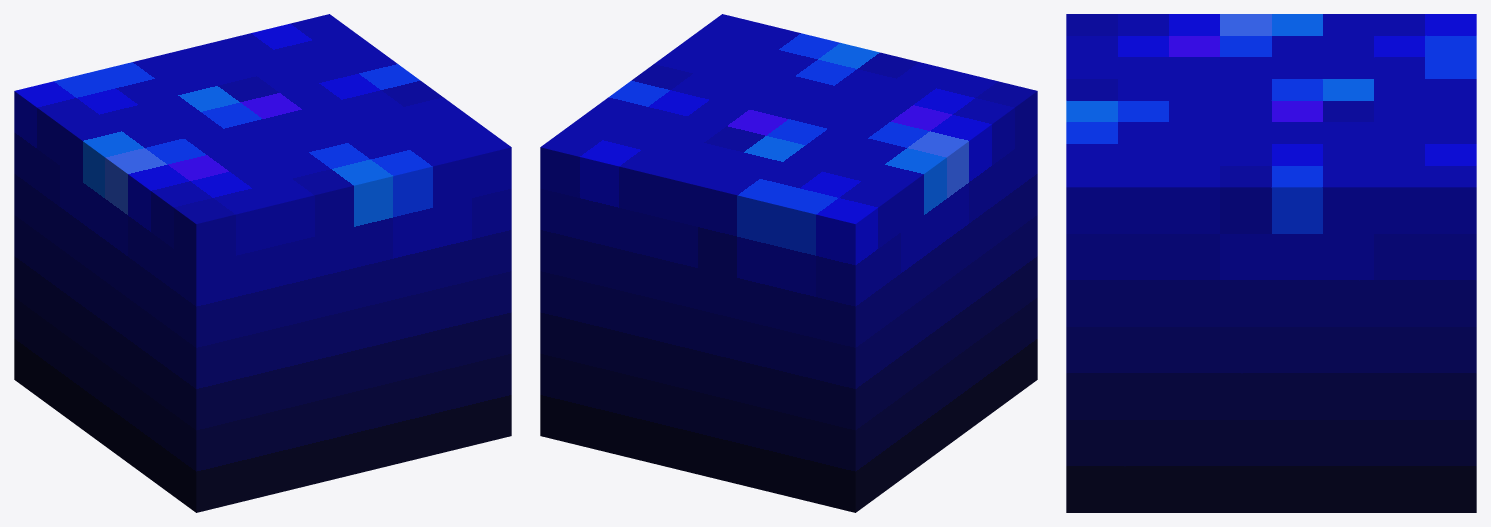
File: land0.gltf
3 views of the same model, side by side, from view 1: azimuth 30°, elevation 25°; view 2: azimuth 150°, elevation 25°; view 3: azimuth 270°, elevation 25° (orthographic). The views are drawn at different scales.
Visible parts, largest first — view 1: Content-Mesh; view 2: Content-Mesh; view 3: Content-Mesh.
Part boxes in pixels (bbox=[...]): Content-Mesh: bbox=[14, 14, 511, 512]; Content-Mesh: bbox=[540, 14, 1037, 512]; Content-Mesh: bbox=[1066, 14, 1476, 512].
Bounding box in the file's own units: 8 × 7 × 8.
1 material, 1 textured.
